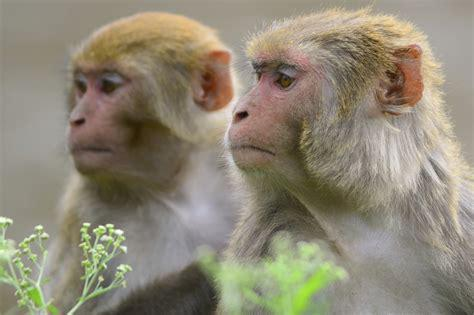monkey: (226, 10, 474, 314), (42, 12, 234, 315)
